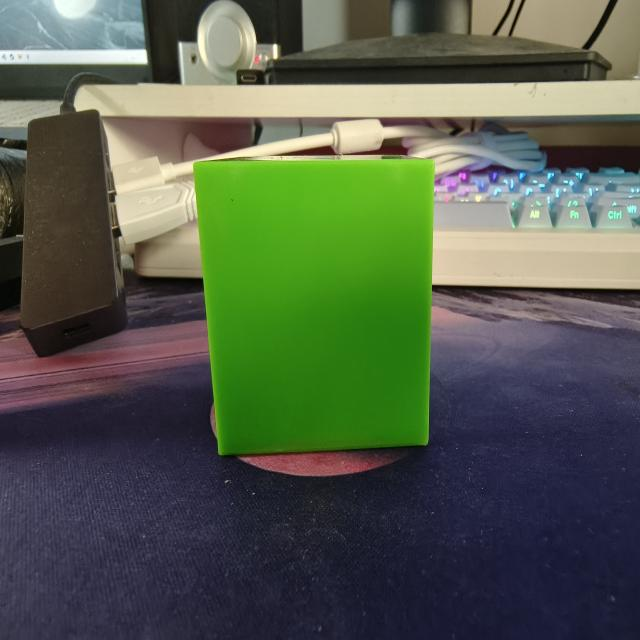green: (180, 134, 457, 473)
